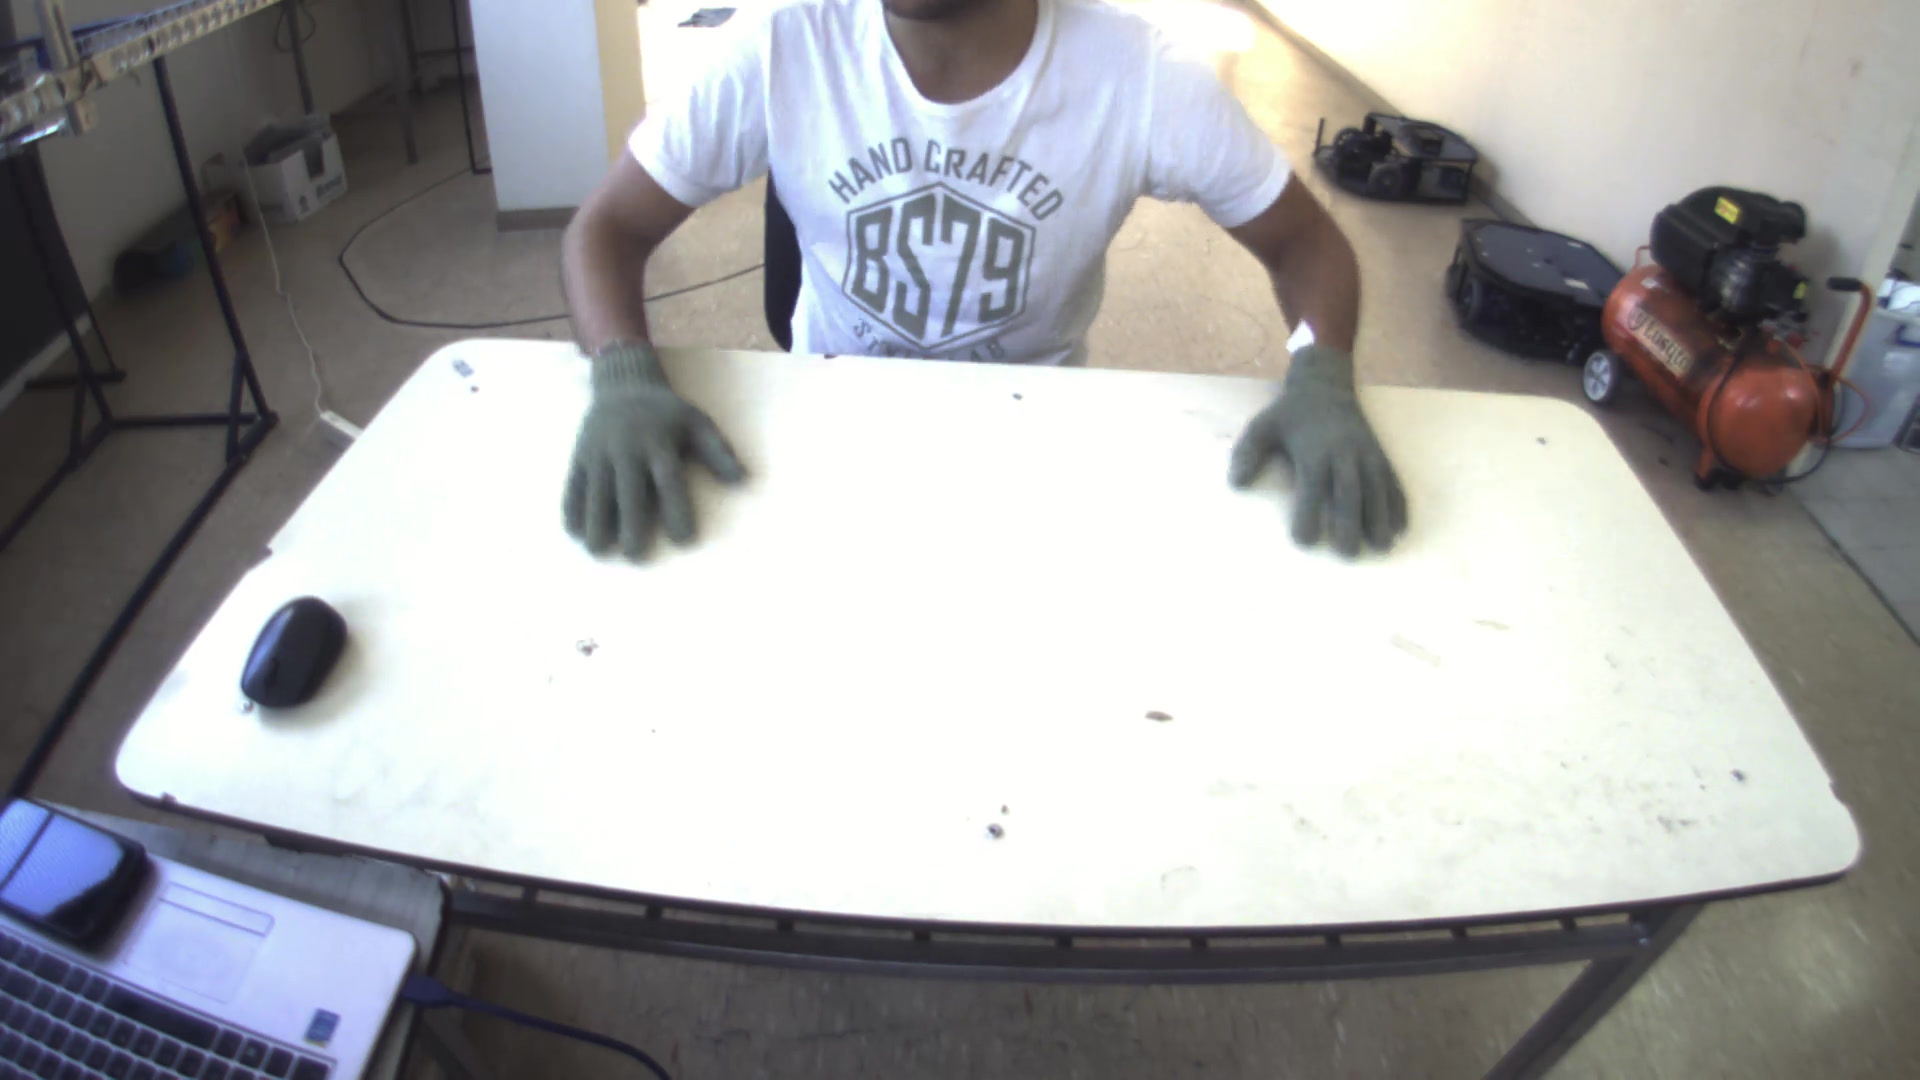hand: (547, 327, 754, 571), (1226, 332, 1427, 562)
